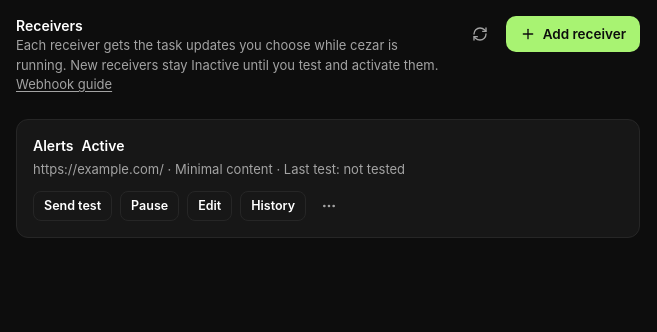
Scenario: custom receiver authentication failure retains signing-key repair advice
Click the button "Send test": point(73, 206) [33,191,112,221]
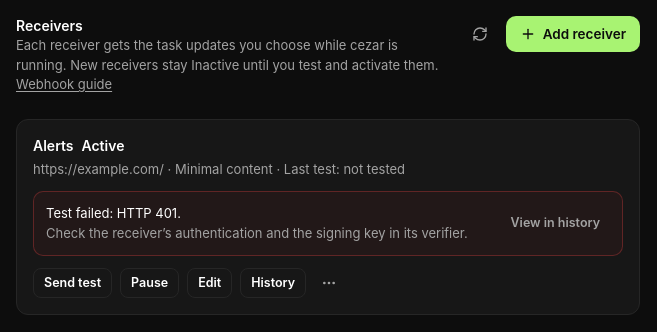
Now the text "signing key in its verifier" is shown, box [46,224,468,240]
